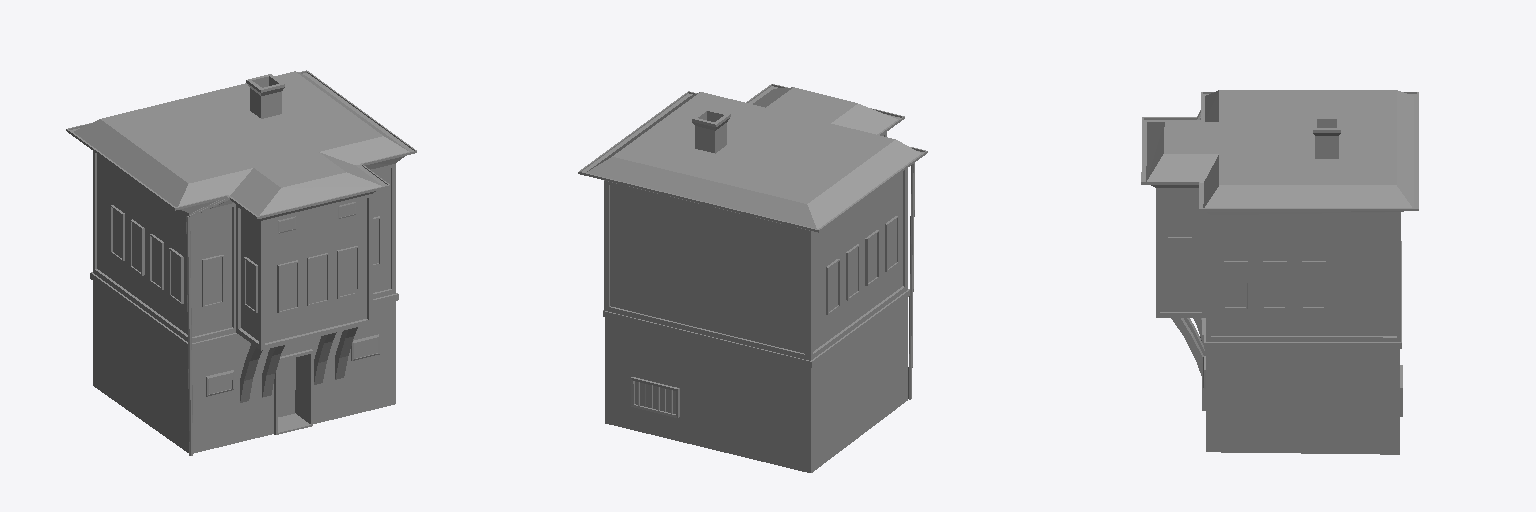
File: casa.obj
The picture shows the model from 3 angles: view 1: azimuth 30°, elevation 25°; view 2: azimuth 150°, elevation 25°; view 3: azimuth 270°, elevation 25°; orthographic projection.
Visible parts, largest first — view 1: city_house_2; view 2: city_house_2; view 3: city_house_2.
Part boxes in pixels (left/top/right/bottom): city_house_2: left=66, top=70, right=416, bottom=455; city_house_2: left=578, top=84, right=927, bottom=472; city_house_2: left=1141, top=90, right=1418, bottom=454.
Size of the model in its own units: 65.58 by 77.34 by 65.42.